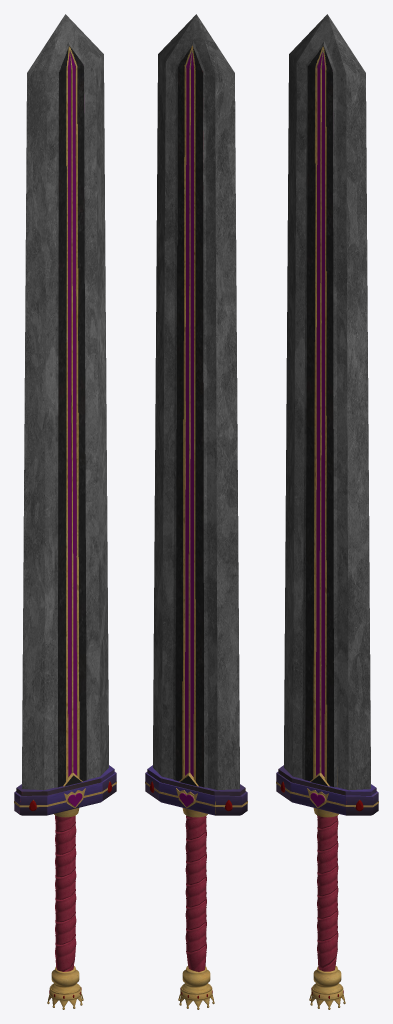
The model's file is sword.glb.
3 renders of one model, left to right at view 1: azimuth 30°, elevation 25°; view 2: azimuth 150°, elevation 25°; view 3: azimuth 330°, elevation 25°, orthographic.
Parts seen in each view (by area): view 1: SwordBake; view 2: SwordBake; view 3: SwordBake.
Boxes of the visible parts, bbox=[...] form: SwordBake: bbox=[14, 14, 116, 1009]; SwordBake: bbox=[145, 14, 247, 1009]; SwordBake: bbox=[276, 14, 378, 1009].
Size of the model in its own units: 1.23 by 12.01 by 0.4439.
1 material, 1 textured.
